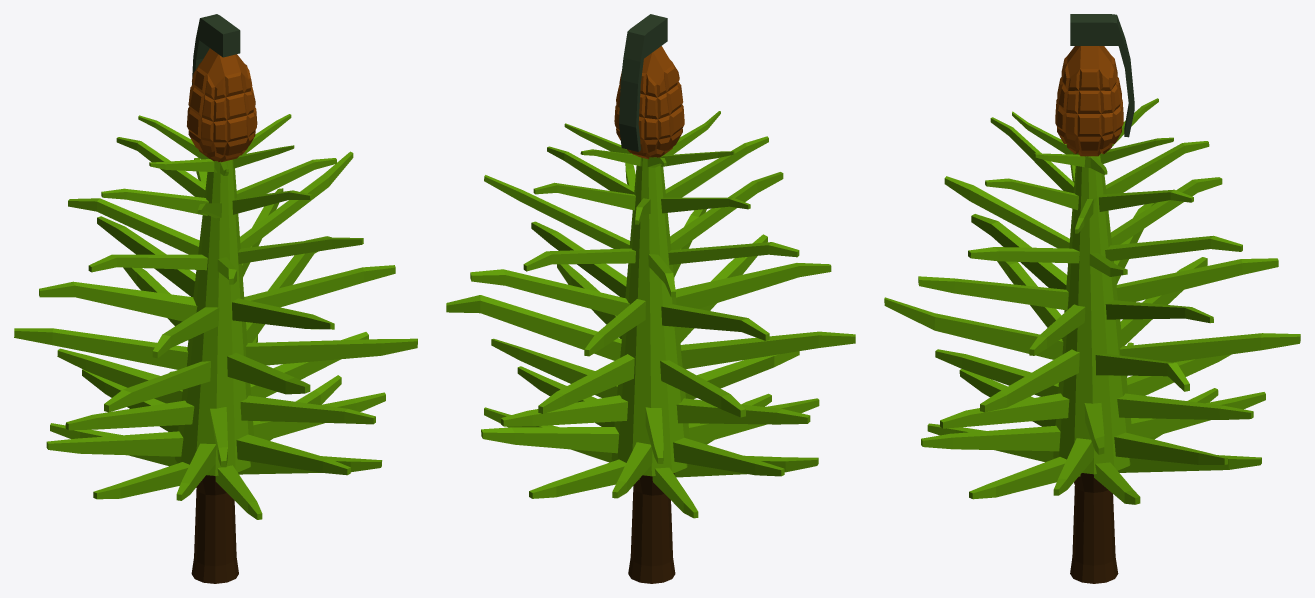
The model's file is Pine Bomber.fbx.
3 views of the same model, side by side, from view 1: azimuth 30°, elevation 25°; view 2: azimuth 150°, elevation 25°; view 3: azimuth 270°, elevation 25° (orthographic).
Parts seen in each view (by area): view 1: funny little pinecrone, and his funny little grenade; view 2: funny little pinecrone, and his funny little grenade; view 3: funny little pinecrone, and his funny little grenade.
Boxes of the visible parts, left/top/right/bottom form: funny little pinecrone: left=14, top=114, right=417, bottom=583; and his funny little grenade: left=187, top=14, right=257, bottom=162; funny little pinecrone: left=446, top=111, right=855, bottom=583; and his funny little grenade: left=614, top=14, right=684, bottom=159; funny little pinecrone: left=884, top=98, right=1300, bottom=583; and his funny little grenade: left=1055, top=14, right=1134, bottom=156.
Size of the model in its own units: 213 by 350 by 237.
